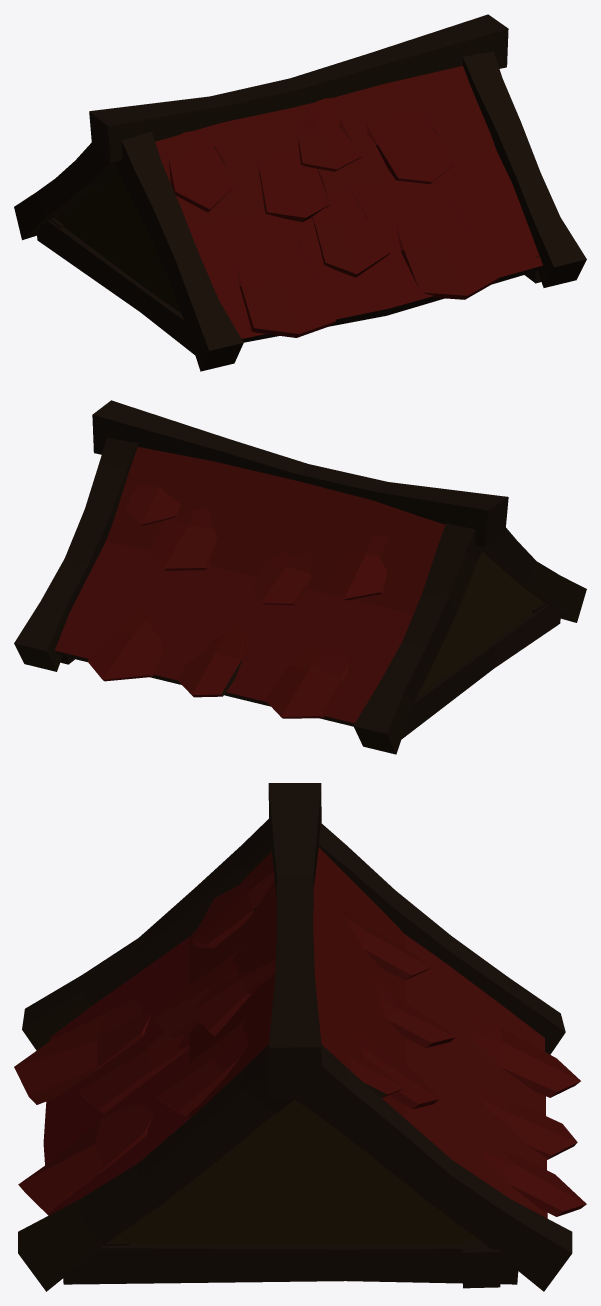
File: houseRoof.FBX
3 views of the same model, one above another, from view 1: azimuth 30°, elevation 25°; view 2: azimuth 150°, elevation 25°; view 3: azimuth 270°, elevation 25° (orthographic). The views are drawn at different scales.
Visible parts, largest first — view 1: house_1; view 2: house_1; view 3: house_1.
Part boxes in pixels (x1=…): house_1: x1=14, y1=14, x2=586, y2=371; house_1: x1=14, y1=400, x2=586, y2=754; house_1: x1=14, y1=783, x2=586, y2=1291.
Size of the model in its own units: 319 by 145 by 293.
